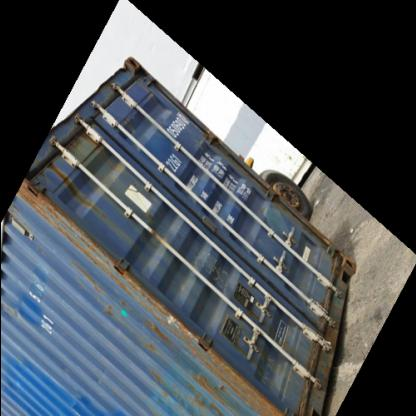Damage: (151, 325, 269, 412), (79, 239, 175, 342), (15, 181, 107, 246)
